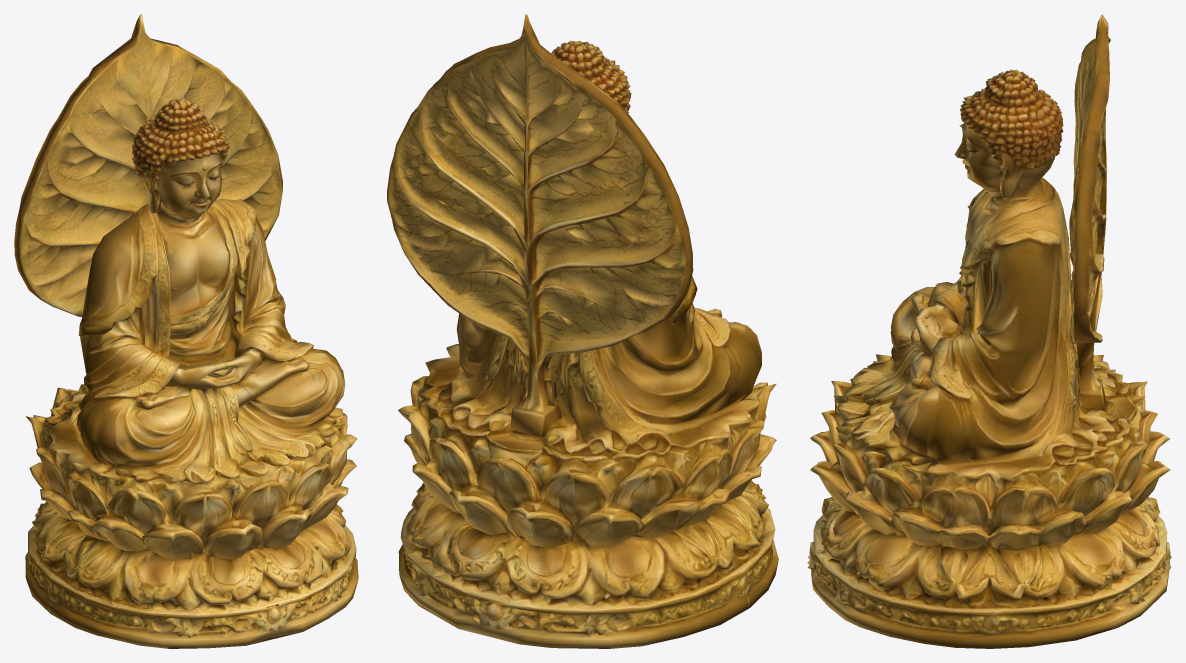
The picture shows the model from 3 angles, left to right: view 1: azimuth 30°, elevation 25°; view 2: azimuth 150°, elevation 25°; view 3: azimuth 270°, elevation 25°; orthographic projection. The views are drawn at different scales.
Visible parts, largest first — view 1: four-heavenly-kings-01; view 2: four-heavenly-kings-01; view 3: four-heavenly-kings-01.
Part boxes in pixels (x1=…): four-heavenly-kings-01: x1=14, y1=14, x2=358, y2=648; four-heavenly-kings-01: x1=387, y1=14, x2=778, y2=648; four-heavenly-kings-01: x1=807, y1=14, x2=1171, y2=648.
Bounding box in the file's own units: 0.5646 × 0.999 × 0.5875.
Materials: 1 (1 with a texture image).
